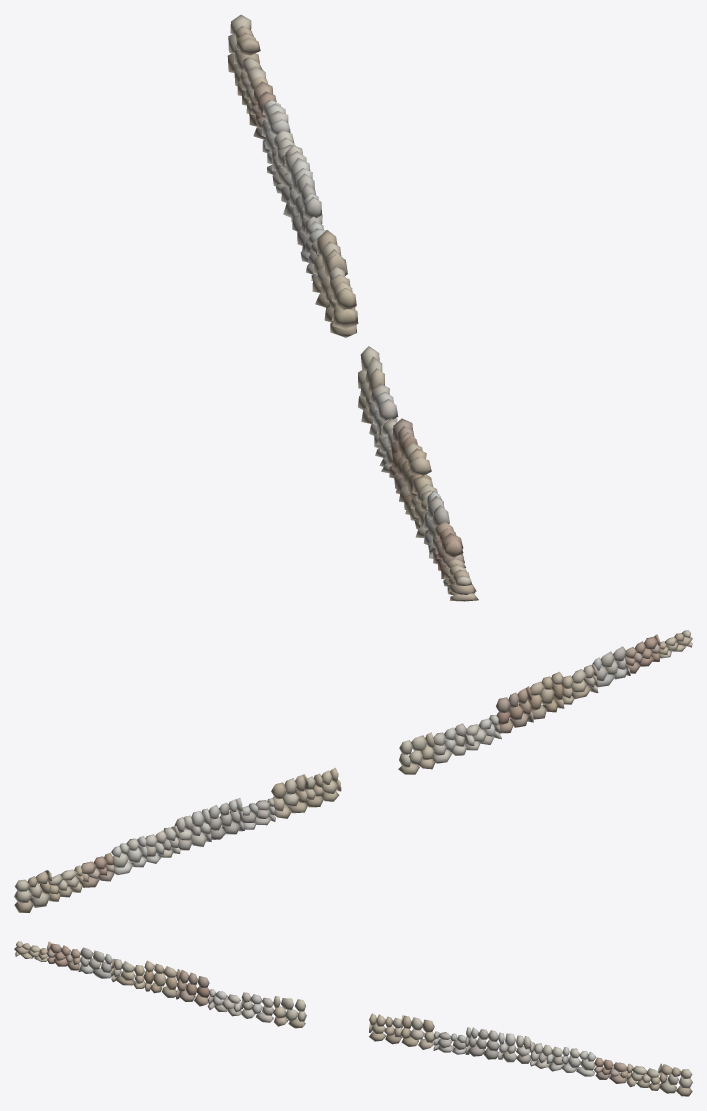
Rendered from farm_-34_-25_near.glb.
3 views of the same model, one above another, from view 1: azimuth 30°, elevation 25°; view 2: azimuth 150°, elevation 25°; view 3: azimuth 270°, elevation 25° (orthographic). The views are drawn at different scales.
Visible parts, largest first — view 1: geometry_0; view 2: geometry_0; view 3: geometry_0.
Boxes of the visible parts, bbox=[...] form: geometry_0: bbox=[227, 14, 478, 601]; geometry_0: bbox=[14, 630, 692, 912]; geometry_0: bbox=[14, 941, 692, 1096].
Size of the model in its own units: 12.48 by 2.61 by 31.46.
